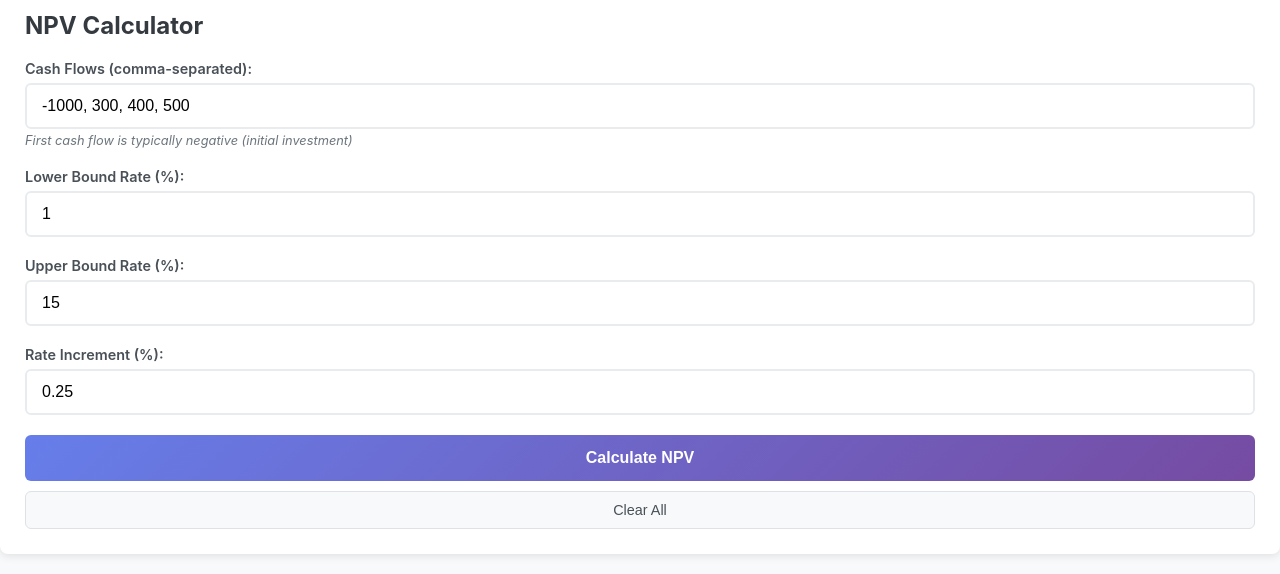
it: NpvForm › clears form when clear button is clicked
In the field labelled "Cash Flows (comma-separated):": x=640, y=106 [25,83,1255,129], type "-5000, 1000"
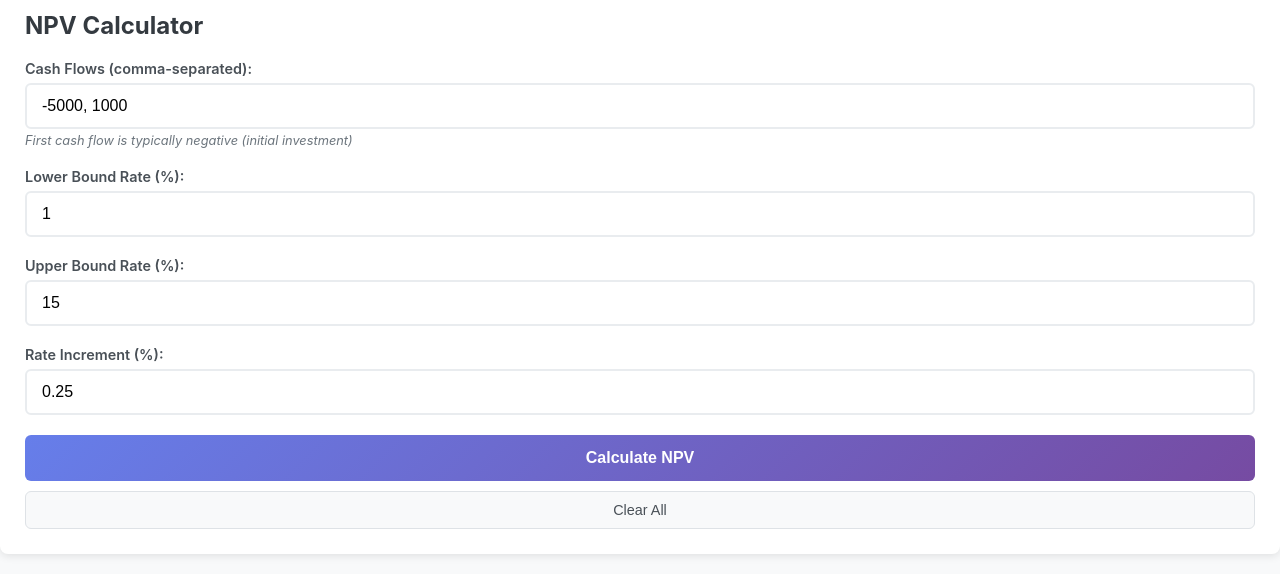
Replace the text in the number field labelled "Lower Bound Rate (%):" with "5": x=640, y=214 [25,191,1255,237]
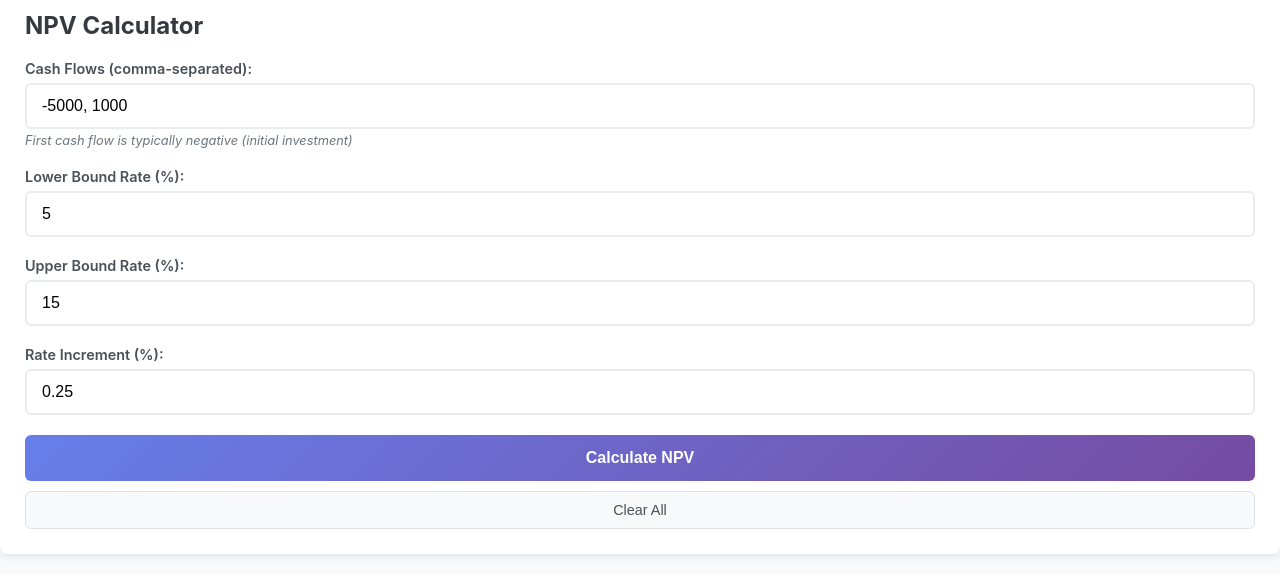
// Click clear button
Click the button "Clear All": x=640, y=510 [25,491,1255,529]
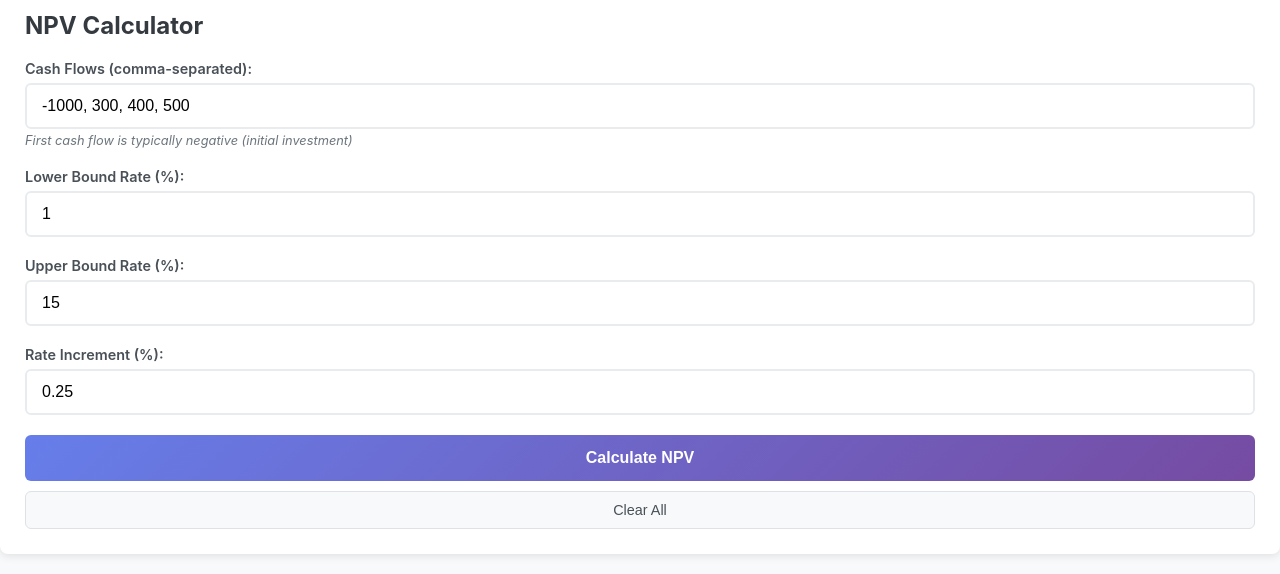
Now the field labelled "Cash Flows (comma-separated):" holds "-1000, 300, 400, 500", box [25,83,1255,129]
Now the number field labelled "Lower Bound Rate (%):" holds "1", box [25,191,1255,237]
